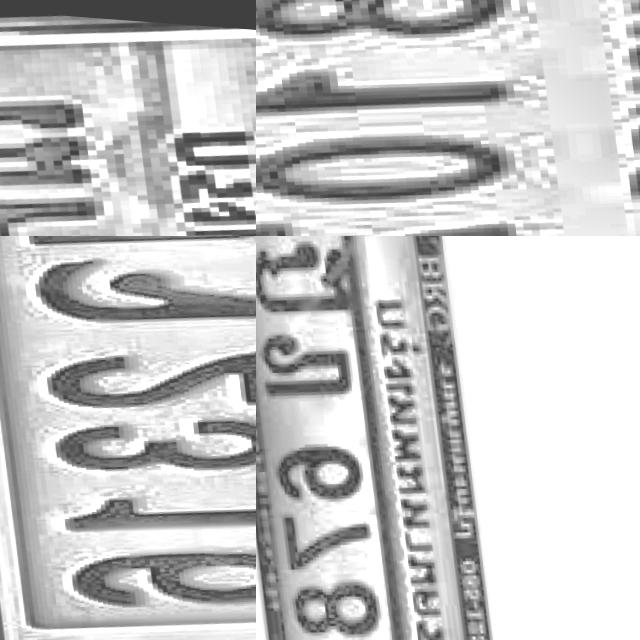license-plate: (256, 236, 516, 640), (0, 236, 256, 640), (256, 0, 640, 236), (0, 0, 256, 236)
